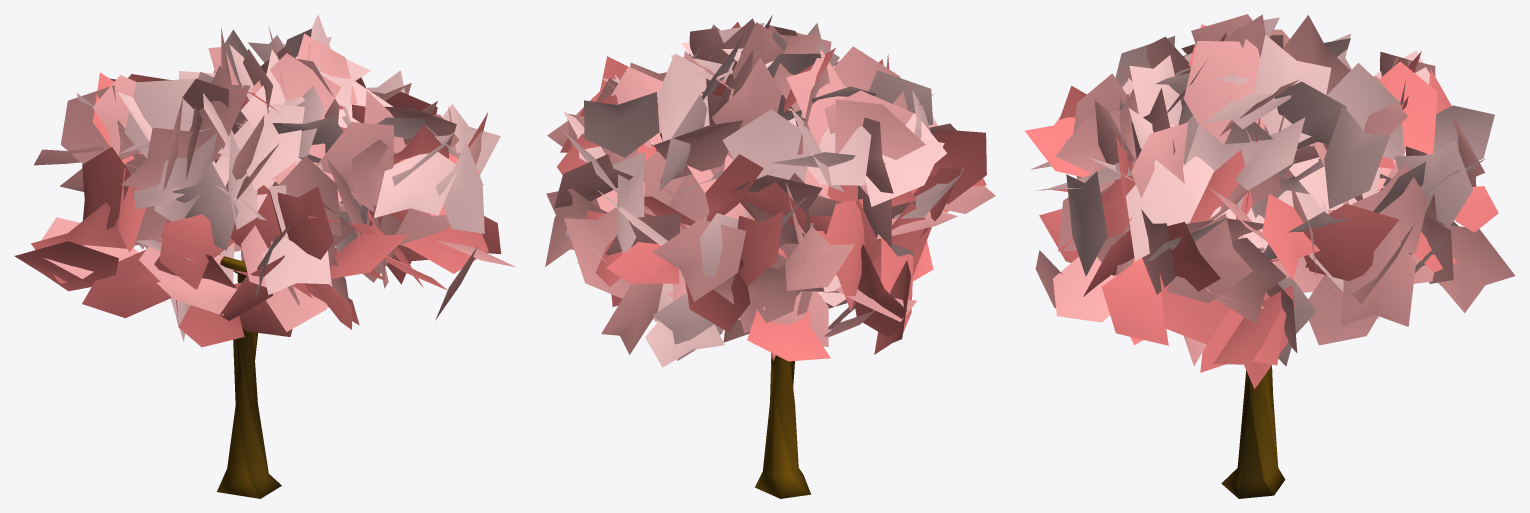
3 views of the same model, side by side, from view 1: azimuth 30°, elevation 25°; view 2: azimuth 150°, elevation 25°; view 3: azimuth 270°, elevation 25° (orthographic). The views are drawn at different scales.
Parts seen in each view (by area): view 1: SakuraTree2; view 2: SakuraTree2; view 3: SakuraTree2.
Boxes of the visible parts, <box> form: SakuraTree2: <box>14,14,515,498</box>; SakuraTree2: <box>545,15,995,498</box>; SakuraTree2: <box>1025,14,1515,498</box>.
Size of the model in its own units: 8.9 by 9.76 by 8.99.
1 material, 1 textured.
